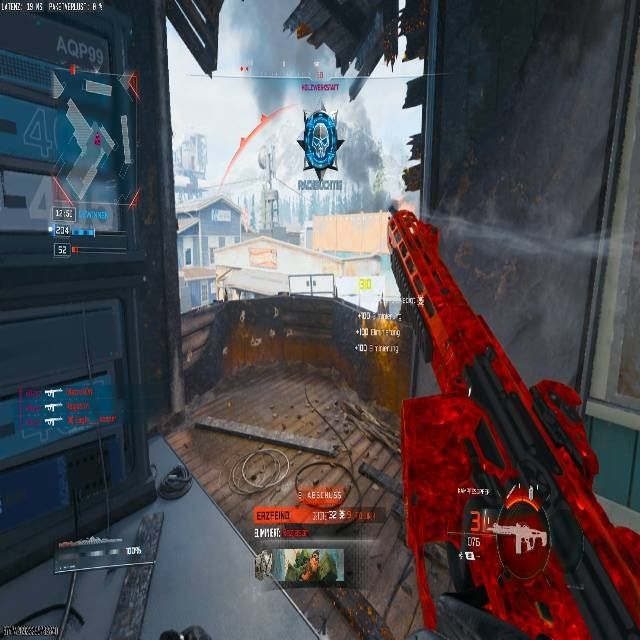player: (297, 109, 341, 180)
